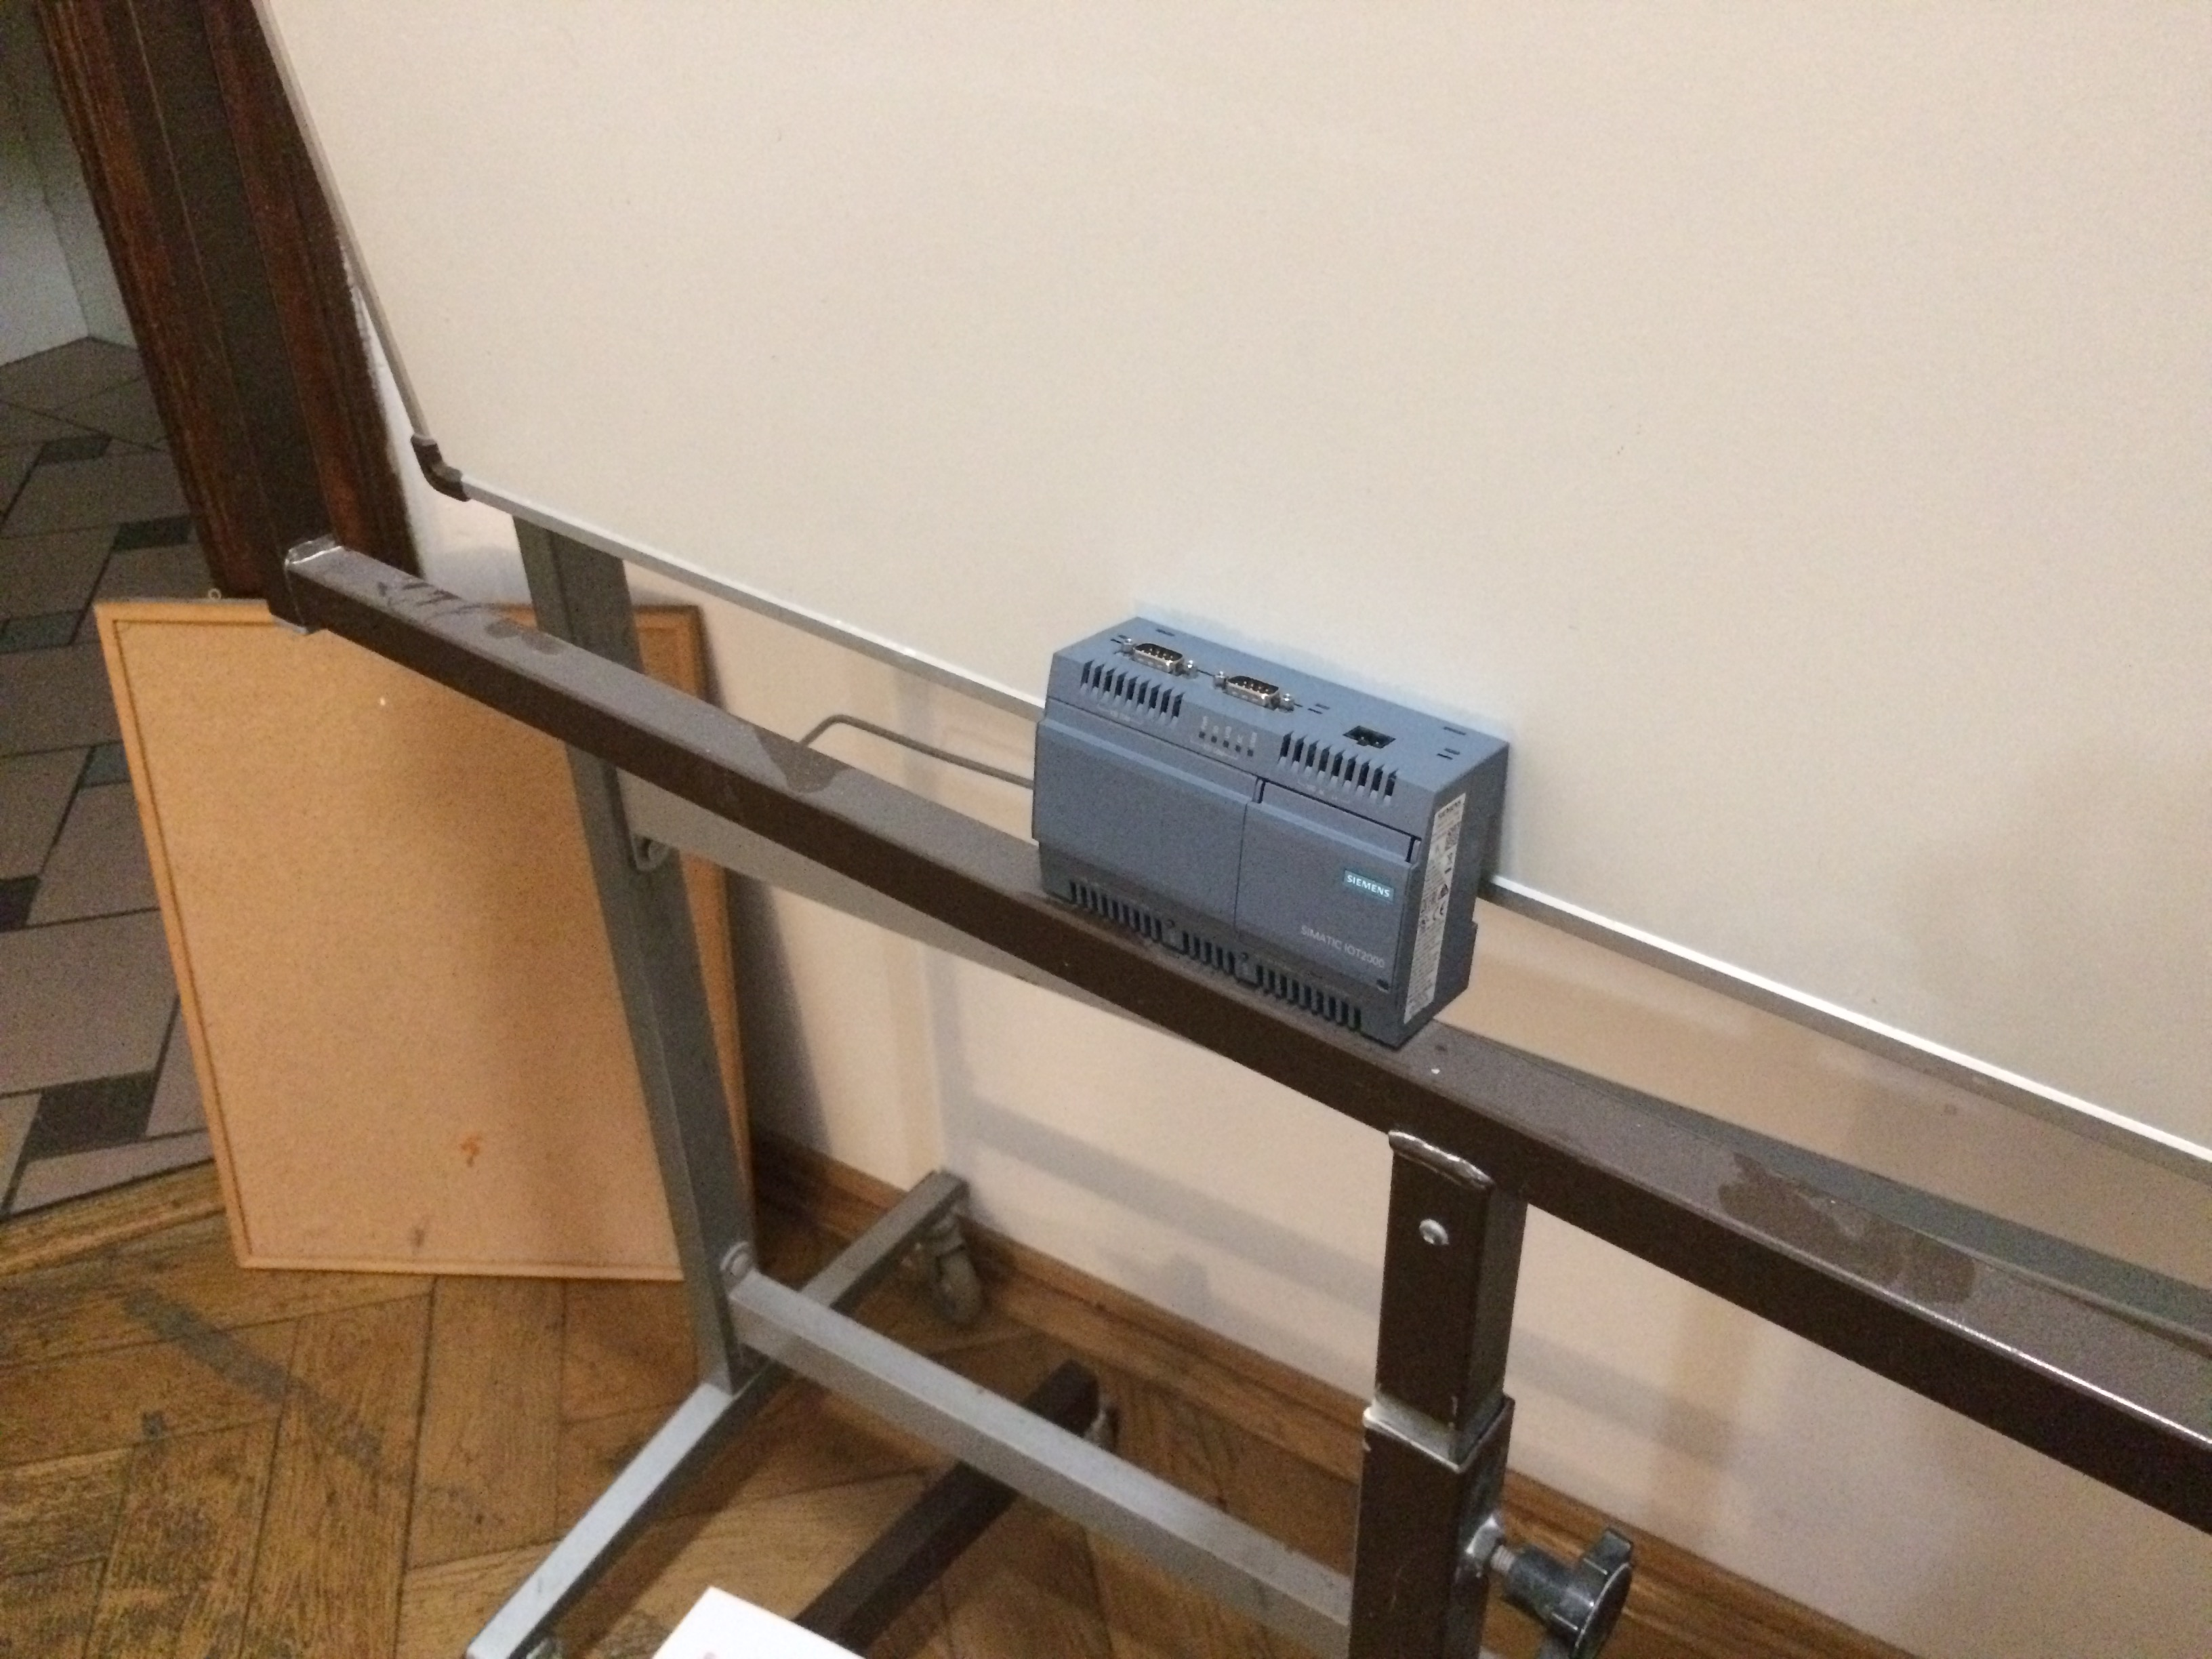iot2000: (1029, 615, 1510, 1053)
